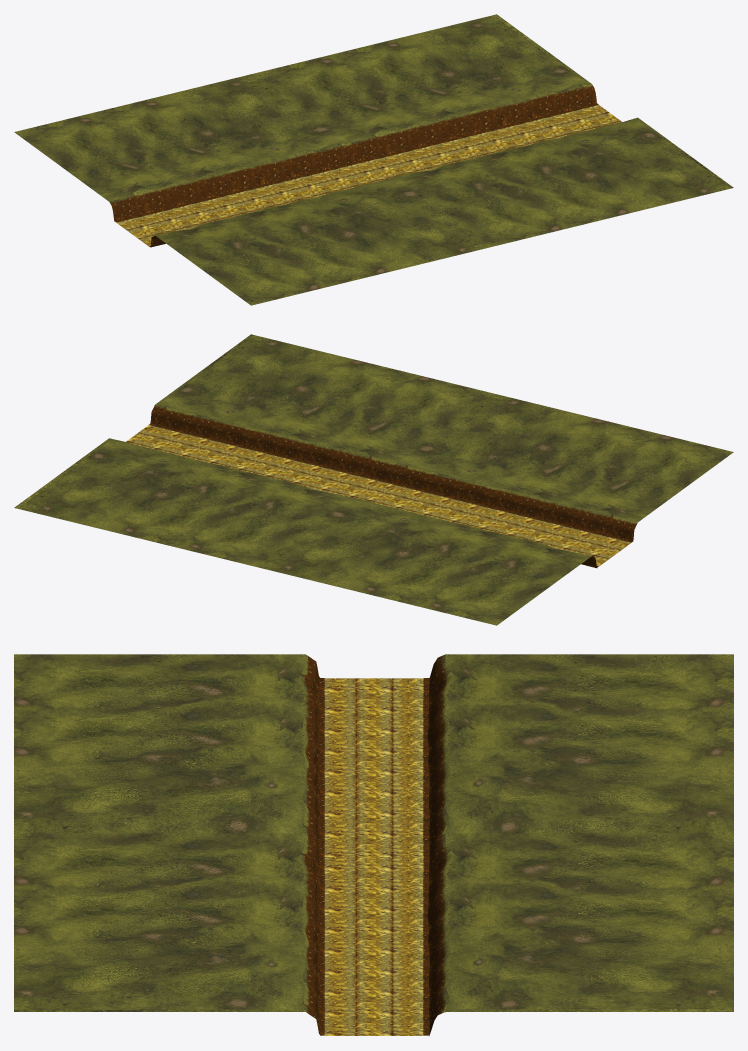
File: Ground.fbx
3 views of the same model, one above another, from view 1: azimuth 30°, elevation 25°; view 2: azimuth 150°, elevation 25°; view 3: azimuth 270°, elevation 25° (orthographic). The views are drawn at different scales.
Visible parts, largest first — view 1: polySurface7; view 2: polySurface7; view 3: polySurface7.
Boxes of the visible parts, x1,y1,x2,y2 form: polySurface7: [14, 14, 733, 305]; polySurface7: [14, 334, 733, 625]; polySurface7: [14, 654, 733, 1036].
Bounding box in the file's own units: 60 × 2.3 × 51.04.
